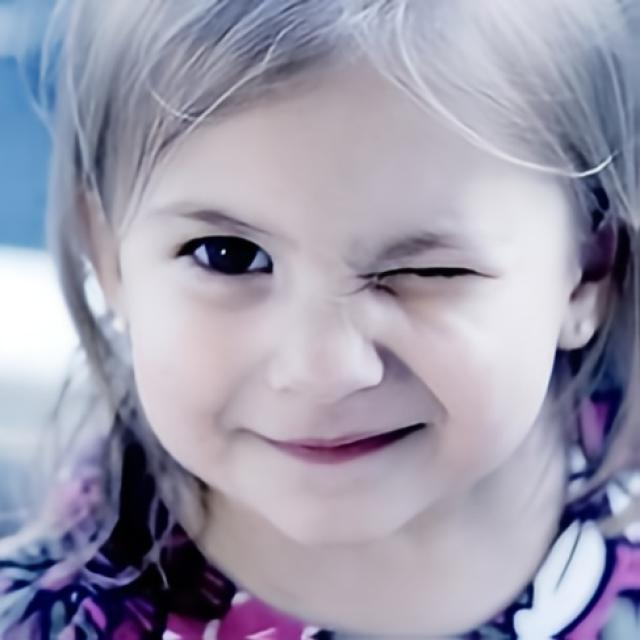happy: (122, 78, 556, 552)
